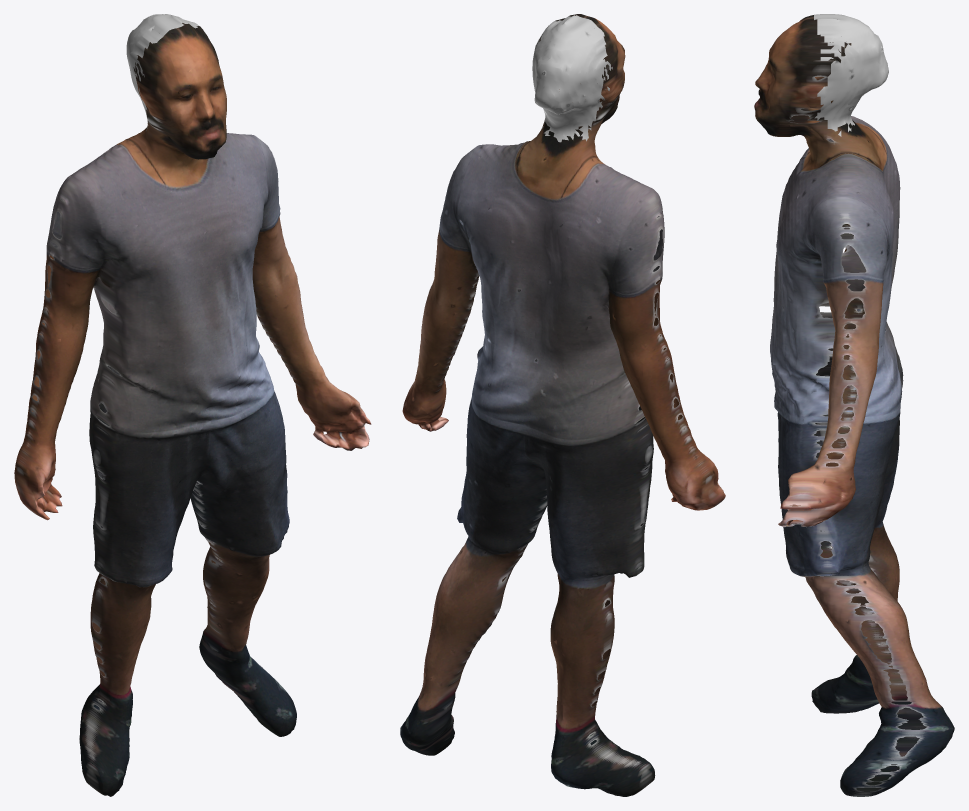
File: BelloModel_B.fbx
3 views of the same model, side by side, from view 1: azimuth 30°, elevation 25°; view 2: azimuth 150°, elevation 25°; view 3: azimuth 270°, elevation 25° (orthographic). The views are drawn at different scales.
Parts seen in each view (by area): view 1: result_1625502935609_IMG_1322_256; view 2: result_1625502935609_IMG_1322_256; view 3: result_1625502935609_IMG_1322_256.
Boxes of the visible parts, x1,y1,x2,y2 form: result_1625502935609_IMG_1322_256: [14, 14, 371, 796]; result_1625502935609_IMG_1322_256: [400, 14, 725, 796]; result_1625502935609_IMG_1322_256: [754, 14, 954, 796].
Bounding box in the file's own units: 81.63 × 184 × 46.1.
